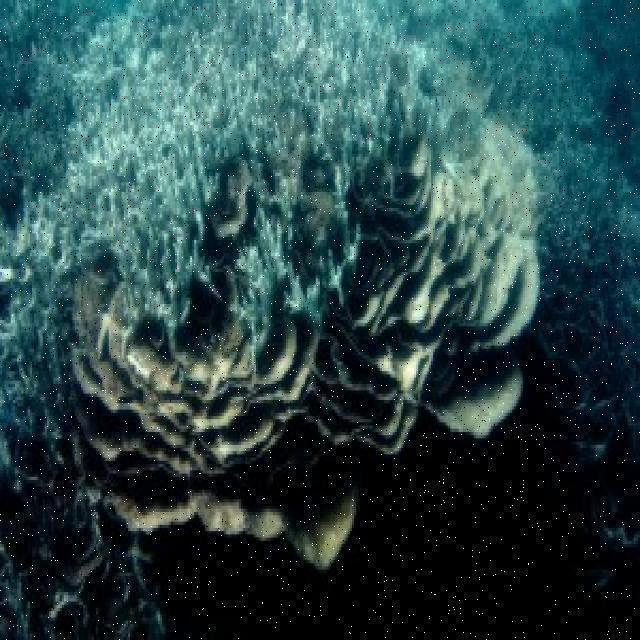Bleached: (91, 116, 205, 251), (287, 14, 398, 103), (132, 48, 282, 104), (244, 240, 313, 325), (4, 217, 83, 282)
Healthy: (79, 340, 516, 565), (532, 152, 640, 413), (371, 180, 531, 339), (6, 343, 66, 640), (471, 4, 597, 134)
